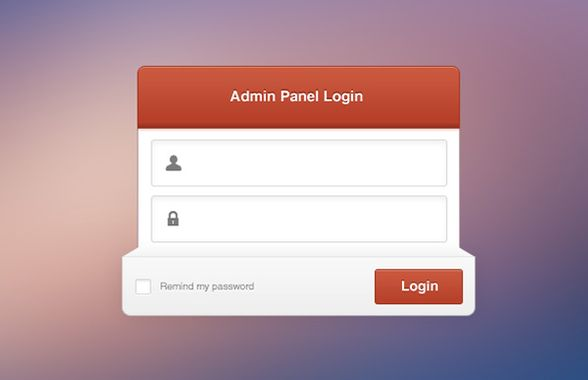_form_: (81, 1, 497, 380)
button: (370, 268, 464, 306)
checkbox: (130, 276, 155, 296)
checkbox_with_label: (127, 273, 255, 298)
field: (149, 194, 447, 245), (147, 139, 448, 188)
